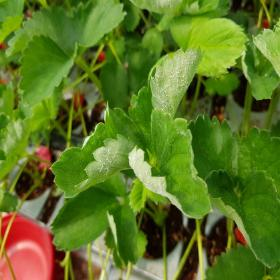Powdery Mildew Leaf: (49, 100, 151, 198), (128, 109, 214, 219), (128, 44, 206, 156), (241, 44, 279, 101), (128, 0, 183, 16)
